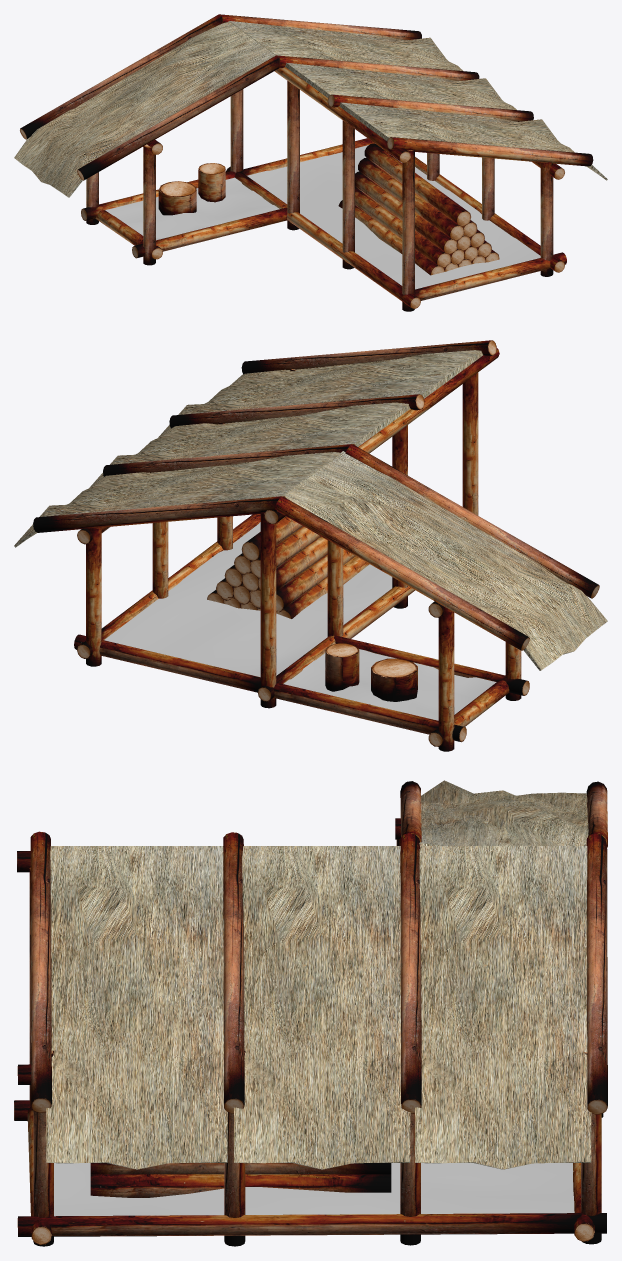
Rendered from logging_1var_combine_ver_001.fbx.
3 views of the same model, one above another, from view 1: azimuth 30°, elevation 25°; view 2: azimuth 150°, elevation 25°; view 3: azimuth 270°, elevation 25° (orthographic). The views are drawn at different scales.
Visible parts, largest first — view 1: logging2; view 2: logging2; view 3: logging2.
Part boxes in pixels (<box>): logging2: <box>14,14,607,311</box>; logging2: <box>14,340,607,751</box>; logging2: <box>14,780,607,1246</box>.
Bounding box in the file's own units: 230 × 90.36 × 170.
